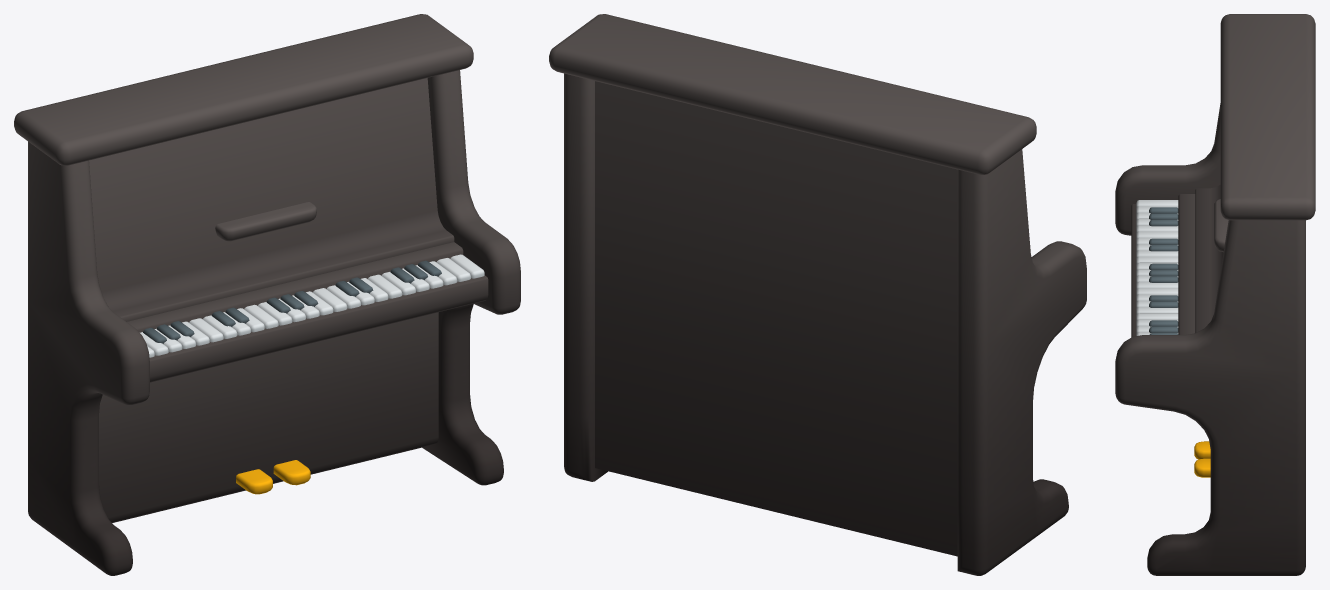
Rendered from Piano_01.glb.
3 renders of one model, left to right at view 1: azimuth 30°, elevation 25°; view 2: azimuth 150°, elevation 25°; view 3: azimuth 270°, elevation 25°, orthographic. The views are drawn at different scales.
Visible parts, largest first — view 1: Piano_01; view 2: Piano_01; view 3: Piano_01.
Boxes of the visible parts, x1,y1,x2,y2 form: Piano_01: (14, 14, 520, 575); Piano_01: (549, 14, 1086, 575); Piano_01: (1115, 14, 1315, 575).
Bounding box in the file's own units: 1.53 × 1.43 × 0.6804.
1 material, 1 textured.
